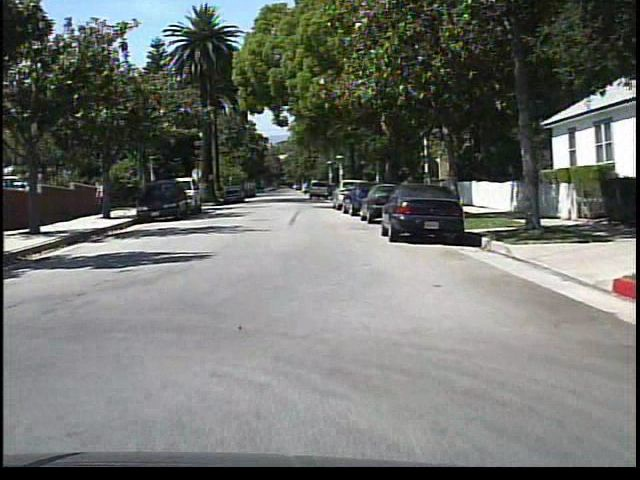person: (92, 176, 109, 216)
